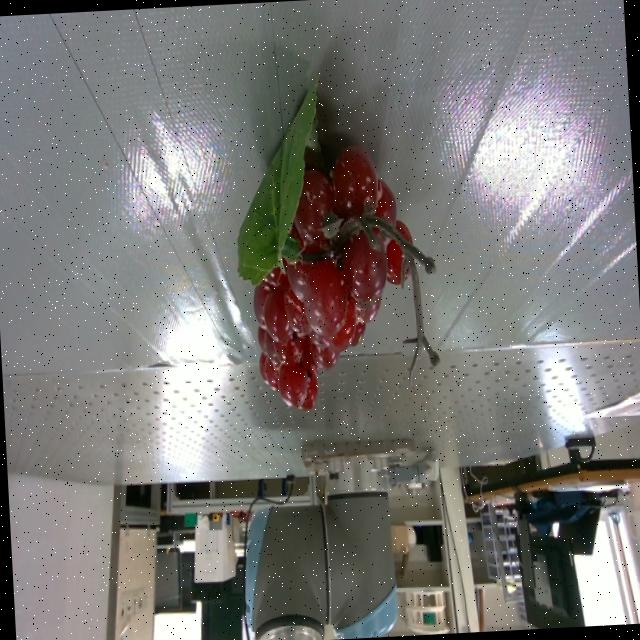grape: (238, 84, 440, 408)
